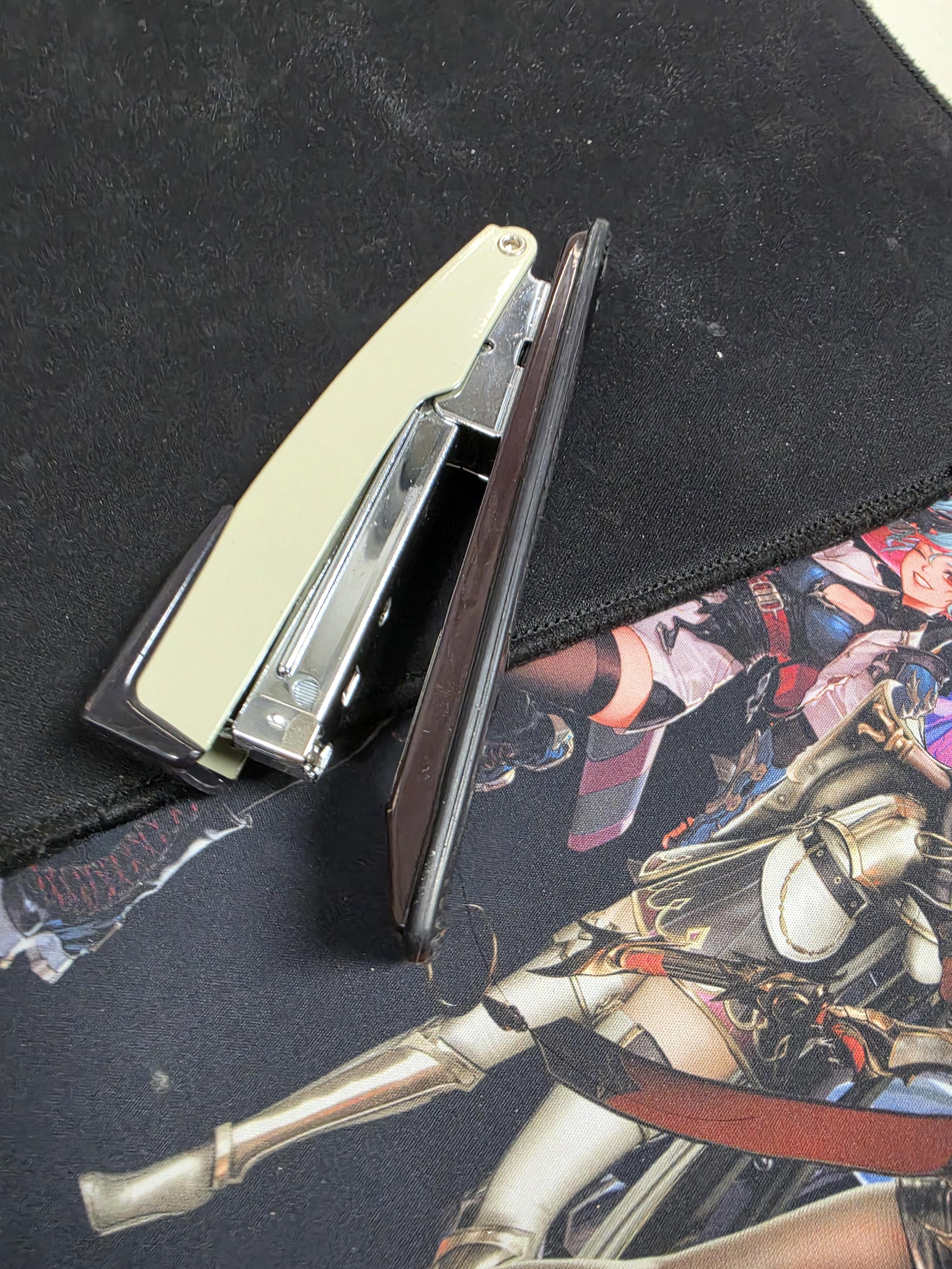stapler: (81, 217, 611, 967)
